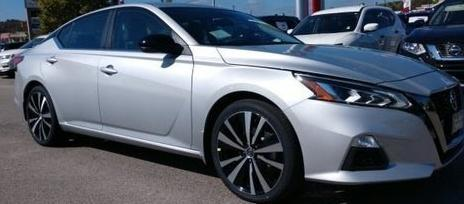Cars: (16, 6, 464, 203)
